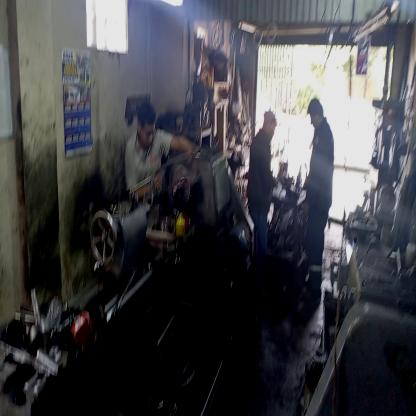lentes: (140, 121, 157, 139)
